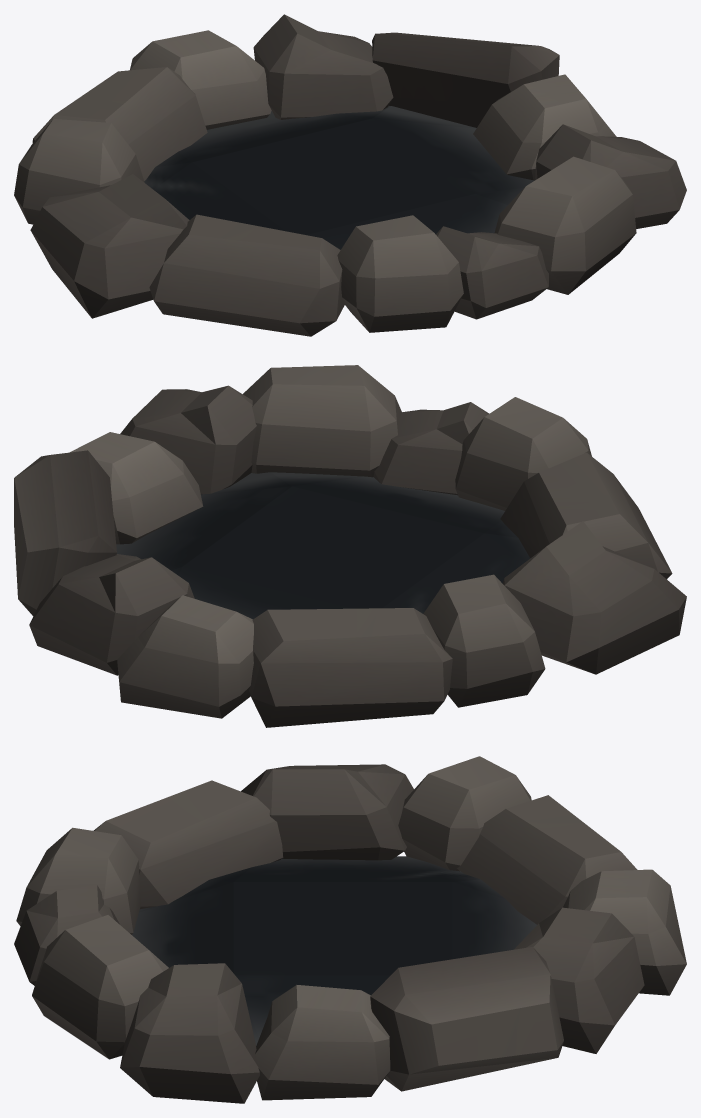
The model's file is Stone_FirePit.fbx.
3 renders of one model, top to bottom at view 1: azimuth 30°, elevation 25°; view 2: azimuth 150°, elevation 25°; view 3: azimuth 270°, elevation 25°, orthographic. The views are drawn at different scales.
Visible parts, largest first — view 1: Stone_FirePit; view 2: Stone_FirePit; view 3: Stone_FirePit.
Boxes of the visible parts, x1=… form: Stone_FirePit: x1=14, y1=14, x2=686, y2=336; Stone_FirePit: x1=14, y1=365, x2=686, y2=727; Stone_FirePit: x1=14, y1=756, x2=686, y2=1103.
Size of the model in its own units: 118 by 21.83 by 116.
